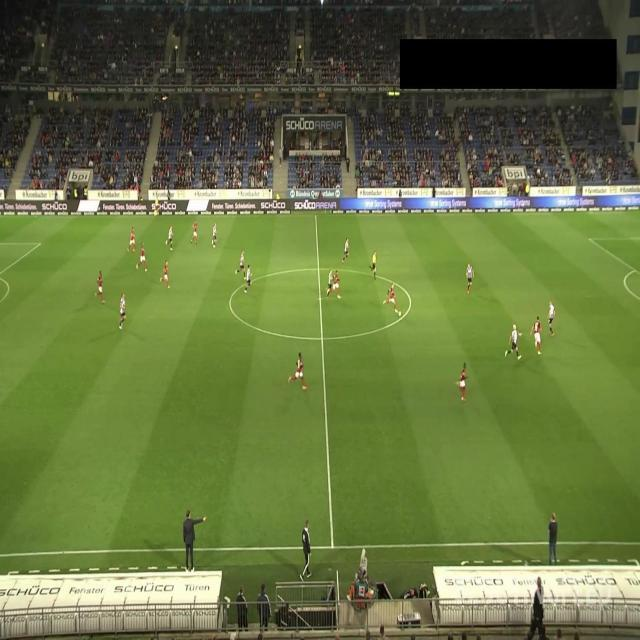ball: (398, 311, 402, 317)
player: (288, 352, 309, 392), (505, 324, 523, 360), (529, 315, 542, 356), (455, 362, 468, 402), (327, 270, 342, 301), (383, 283, 398, 314), (95, 271, 106, 304), (136, 242, 148, 272), (160, 260, 171, 289), (547, 299, 555, 336), (119, 293, 127, 330), (235, 249, 245, 278), (326, 268, 335, 299), (244, 264, 252, 296), (466, 263, 474, 294), (127, 227, 136, 253), (342, 237, 350, 263), (167, 225, 174, 251), (191, 221, 198, 246), (212, 222, 217, 247)
referee: (369, 250, 377, 280), (154, 193, 160, 218)
